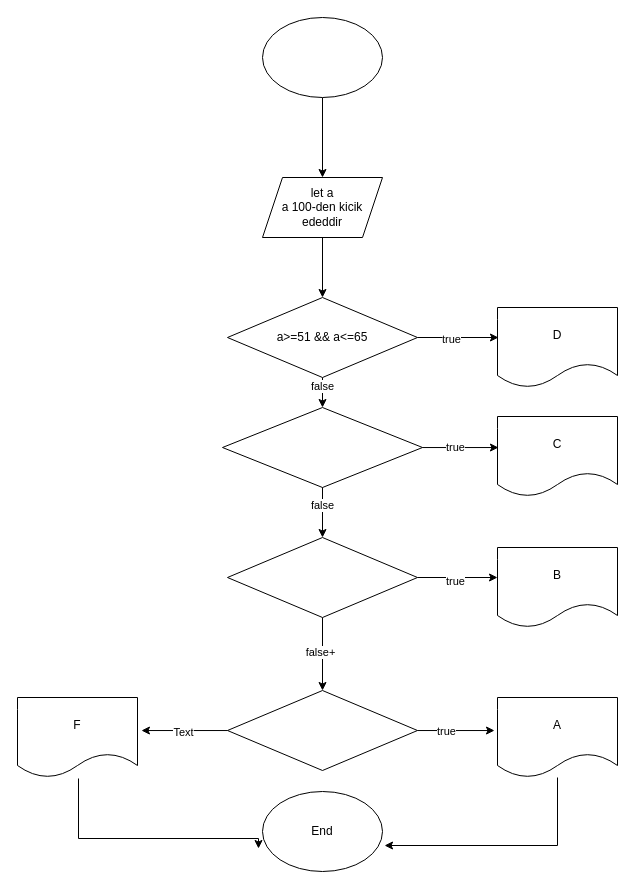
This 635x889 diagram has some shape labels left out. Here are the shapes that lost their labels. From the top down, the centre of each, then its label:
At point 322,57: "Start".
At point 322,447: "a>65 && a<=75".
At point 322,577: "a>75 && a<=85".
At point 322,730: "a>85 && a<=100".
